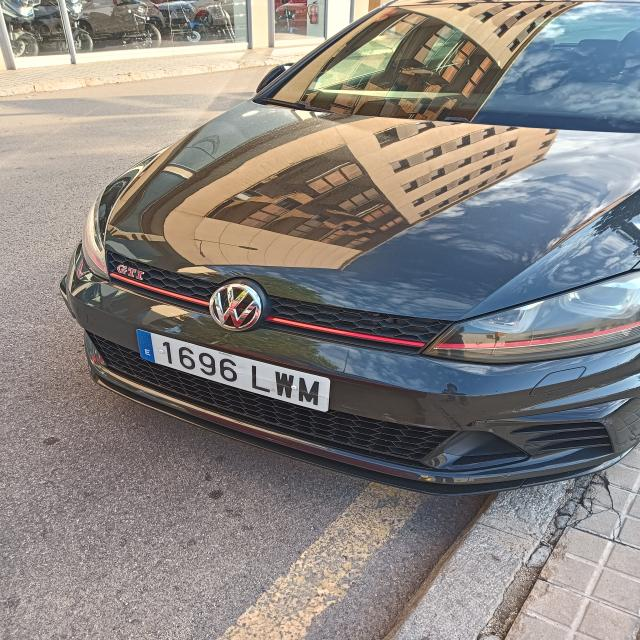license_plate-34Td: (139, 331, 330, 411)
